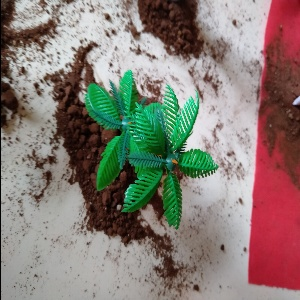plant: (71, 61, 255, 236)
